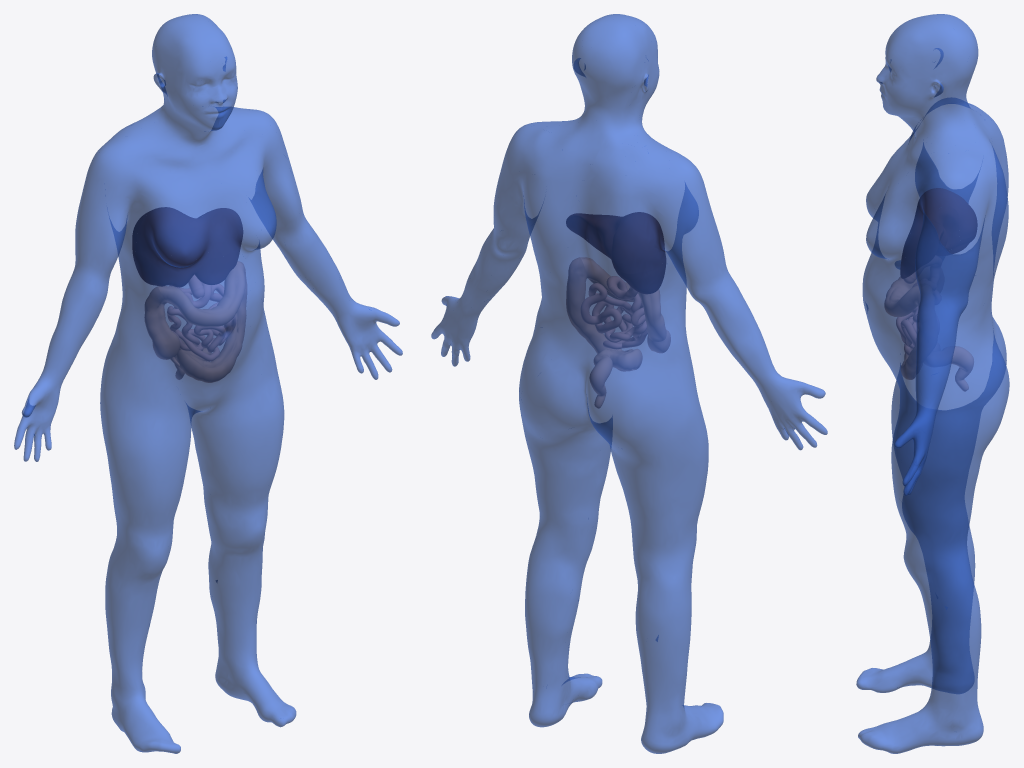
The model's file is reference-anatomy.glb.
3 views of the same model, side by side, from view 1: azimuth 30°, elevation 25°; view 2: azimuth 150°, elevation 25°; view 3: azimuth 270°, elevation 25° (orthographic).
Visible parts, largest first — view 1: VH_F_skin, VH_F_transverse_colon, VH_F_right_anterosuperior_segment, VH_F_left_superomedial_segment1, VH_F_ileum, VH_F_descending_colon, VH_F_left_superomedial_segment, VH_F_left_anterolateral_segment, VH_F_right_anteroinferior_segment, VH_F_ascending_colon, VH_F_left_inferomedial_segment; view 2: VH_F_skin, VH_F_right_posterosuperior_segment, VH_F_descending_colon, VH_F_jejenum, VH_F_ileum, VH_F_ascending_colon, VH_F_left_superomedial_segment, VH_F_rectum, VH_F_right_anterosuperior_segment, VH_F_right_posteroinferior_segment, VH_F_sigmoid_colon; view 3: VH_F_skin, VH_F_transverse_colon, VH_F_caudate_lobe, VH_F_right_posterosuperior_segment, VH_F_rectum, VH_F_ileum, VH_F_left_superomedial_segment, VH_F_right_anterosuperior_segment, VH_F_descending_colon, VH_F_left_superomedial_segment1.
Part boxes in pixels (x1,y1,x2,y2): VH_F_skin: [14, 14, 402, 753]; VH_F_transverse_colon: [158, 262, 244, 326]; VH_F_right_anterosuperior_segment: [136, 207, 182, 262]; VH_F_left_superomedial_segment1: [171, 214, 212, 261]; VH_F_ileum: [167, 306, 235, 361]; VH_F_descending_colon: [202, 261, 246, 382]; VH_F_left_superomedial_segment: [203, 208, 242, 258]; VH_F_left_anterolateral_segment: [195, 248, 240, 284]; VH_F_right_anteroinferior_segment: [135, 252, 171, 286]; VH_F_ascending_colon: [144, 287, 169, 339]; VH_F_left_inferomedial_segment: [168, 258, 205, 287]; VH_F_skin: [431, 14, 827, 753]; VH_F_right_posterosuperior_segment: [611, 221, 659, 273]; VH_F_descending_colon: [566, 257, 625, 371]; VH_F_jejenum: [581, 278, 640, 333]; VH_F_ileum: [592, 302, 646, 349]; VH_F_ascending_colon: [642, 289, 666, 341]; VH_F_left_superomedial_segment: [566, 213, 609, 246]; VH_F_rectum: [589, 356, 612, 408]; VH_F_right_anterosuperior_segment: [620, 212, 665, 263]; VH_F_right_posteroinferior_segment: [615, 265, 659, 293]; VH_F_sigmoid_colon: [595, 349, 642, 370]; VH_F_skin: [856, 14, 1009, 753]; VH_F_transverse_colon: [884, 277, 919, 316]; VH_F_caudate_lobe: [931, 206, 959, 251]; VH_F_right_posterosuperior_segment: [950, 191, 977, 239]; VH_F_rectum: [951, 346, 973, 391]; VH_F_ileum: [896, 312, 916, 355]; VH_F_left_superomedial_segment: [903, 222, 943, 266]; VH_F_right_anterosuperior_segment: [919, 188, 949, 209]; VH_F_descending_colon: [901, 291, 919, 379]; VH_F_left_superomedial_segment1: [907, 197, 935, 237].
Bounding box in the file's own units: 0.9673 × 1.67 × 0.3291.
